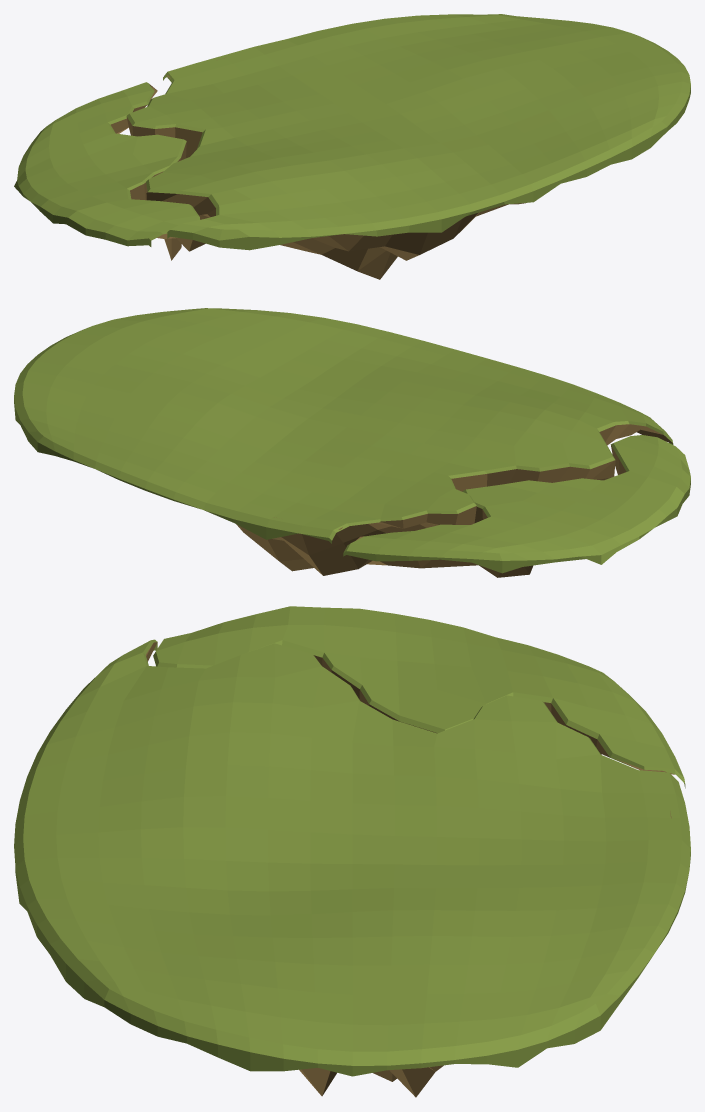
Rendered from platforme_moyen1_v2.fbx.
3 renders of one model, top to bottom at view 1: azimuth 30°, elevation 25°; view 2: azimuth 150°, elevation 25°; view 3: azimuth 270°, elevation 25°, orthographic. The views are drawn at different scales.
Visible parts, largest first — view 1: Plane.004; view 2: Plane.004; view 3: Plane.004.
Part boxes in pixels (x1=…): Plane.004: x1=14, y1=14, x2=690, y2=279; Plane.004: x1=14, y1=308, x2=690, y2=577; Plane.004: x1=14, y1=606, x2=690, y2=1097.
Bounding box in the file's own units: 1076 × 270 × 663.
